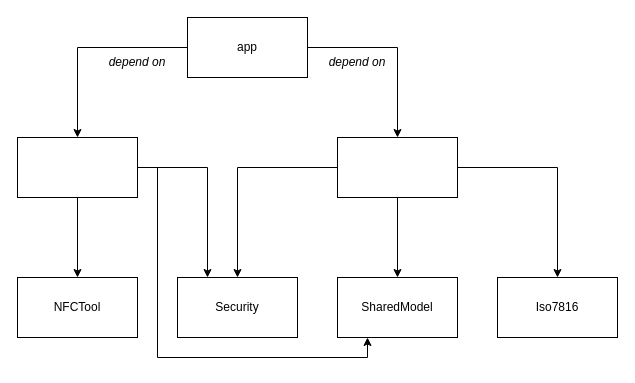
Image size: 635x383. Some labels were removed from this diagram. Here are the shapes that lost their labels. From the top down, the centre of each, then its label:
At (77,167): "EmulatorVehicalOem".
At (397,167): "DigitalKey".
